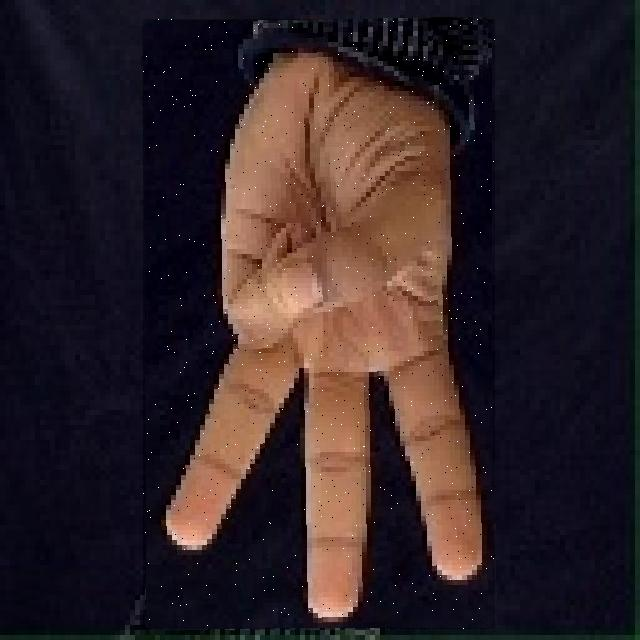Please: (143, 19, 495, 629)
